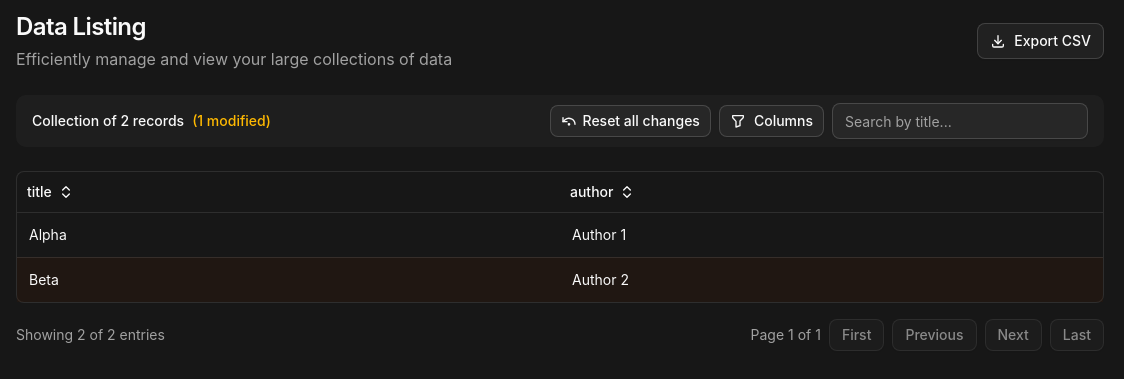
Test case: ListingsPage › supports search, reset, modified counter, and export
The image size is (1124, 379).
Expected: the text "(1 modified)" is shown, [192, 111, 271, 131]
Click the button "Reset all changes" at (630, 121), box [550, 105, 711, 137]
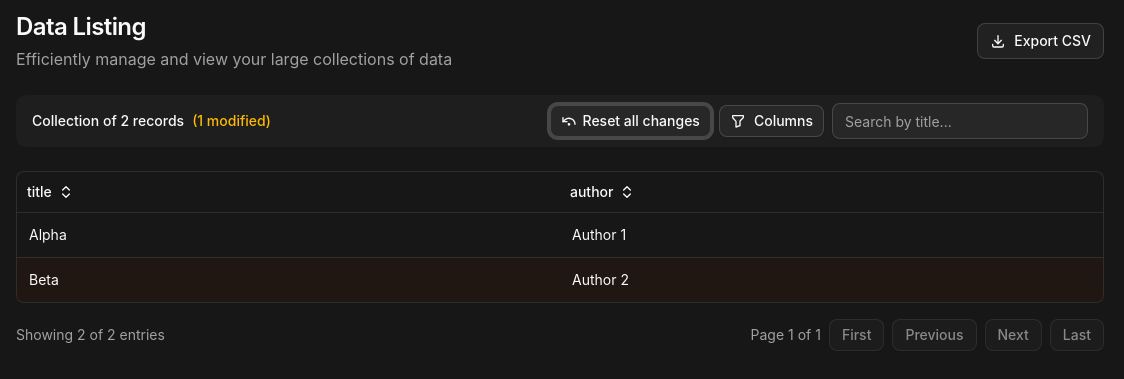
Click the button "Export CSV" at (1041, 41), box [977, 23, 1104, 59]
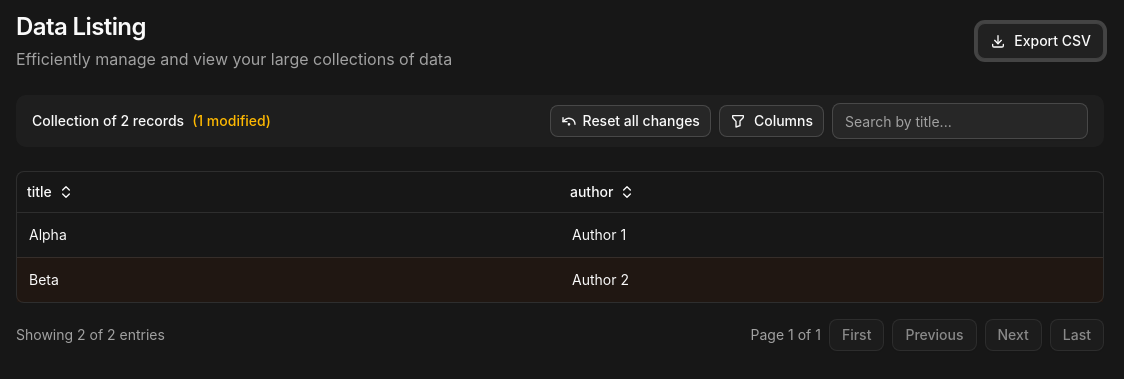
Type "zzz" into the field with placeholder "Search by title..." at (960, 121), box [832, 103, 1088, 139]
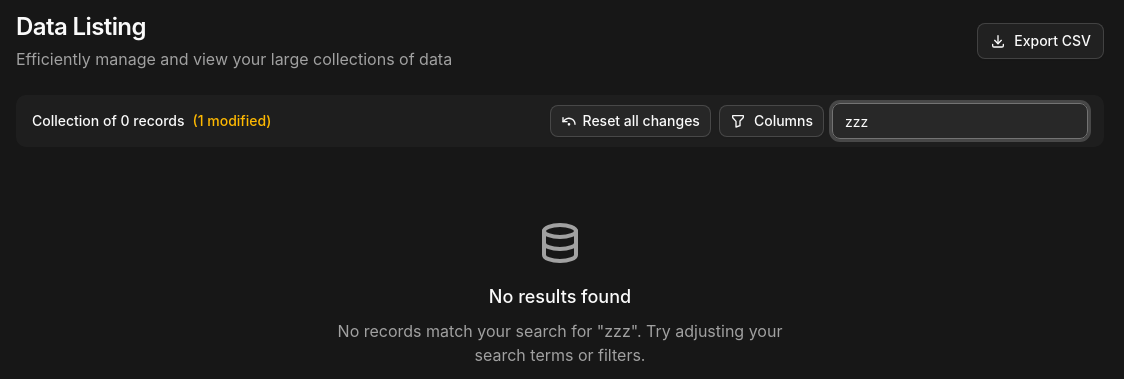
Expected: the heading "No results found" is shown, [489, 283, 631, 311]
